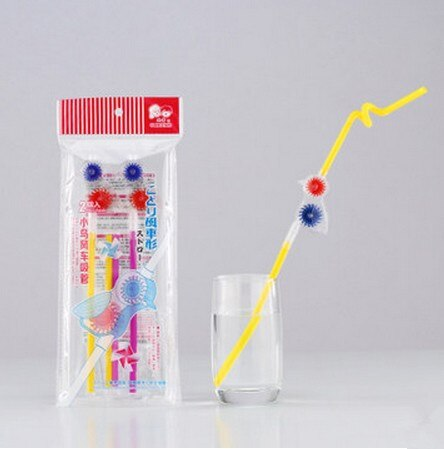Drinking Straw: (212, 85, 431, 393)
